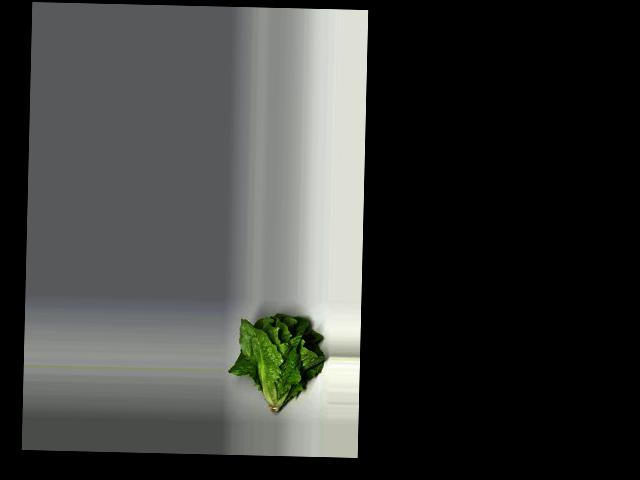lettuce: (229, 328, 355, 423)
